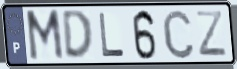6: (130, 8, 157, 61)
C: (160, 8, 196, 61)
D: (61, 9, 95, 62)
L: (97, 11, 127, 58)
M: (24, 8, 66, 64)
Z: (194, 9, 229, 58)
